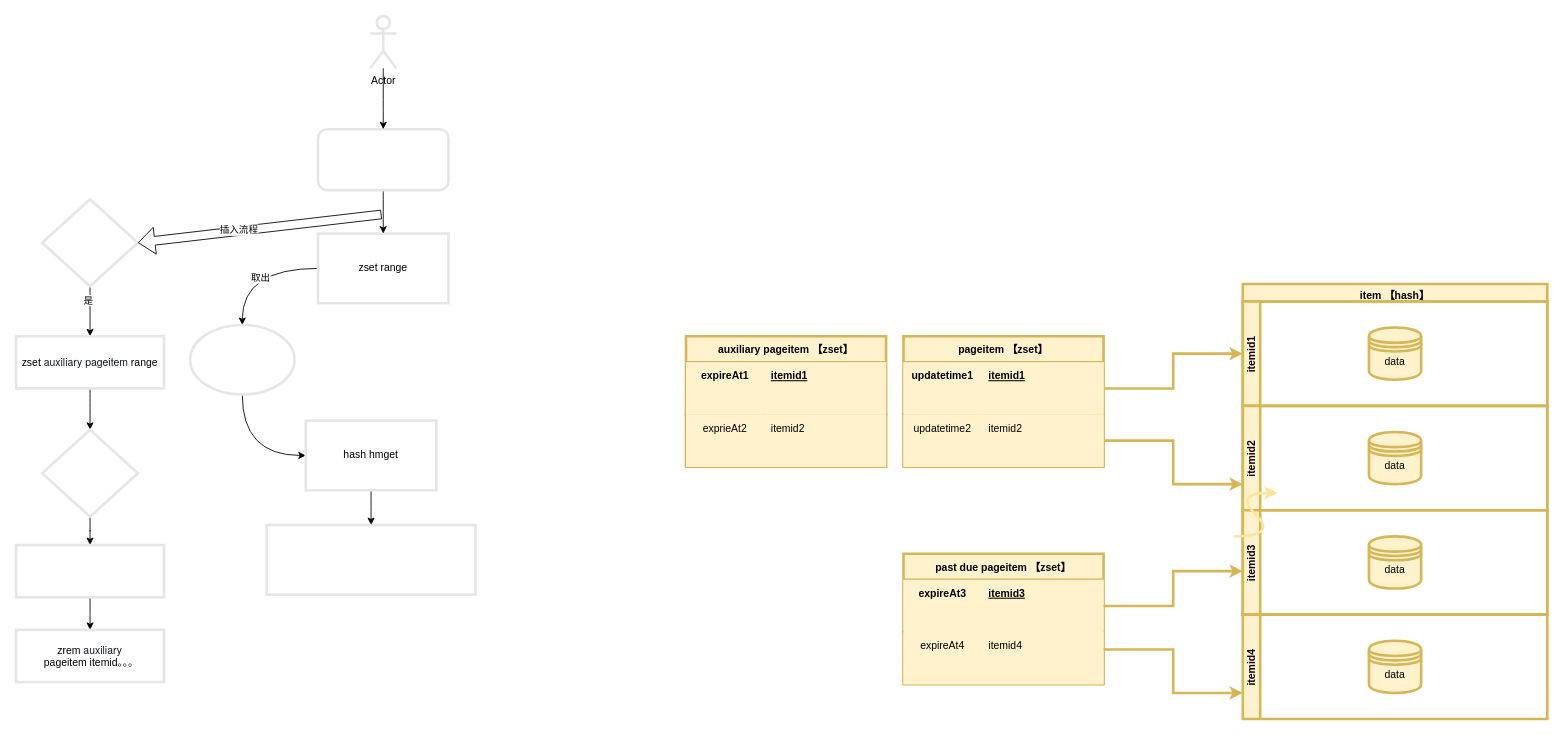
Image size: 1563x735. Some labels were removed from this diagram. The centre of each missing label's shape, as x and y in pixels:
"zrem pageitem itemid。。。" goes at pixel 89 570.
"封装结果集" goes at pixel 370 559.
"是否查询非过期道具" goes at pixel 89 242.
"根据入参判定是用哪个zset" goes at pixel 382 159.
"该结构中是否存在过期道具" goes at pixel 89 473.
"道具id列表" goes at pixel 241 359.
